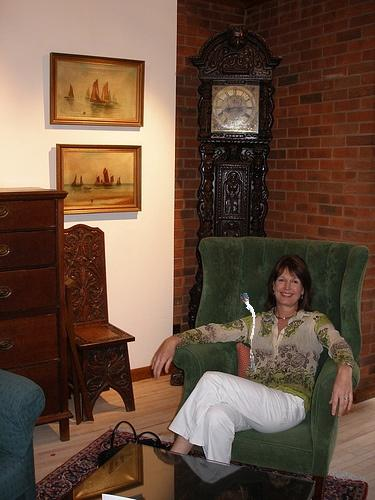tampered: (241, 294, 256, 379)
